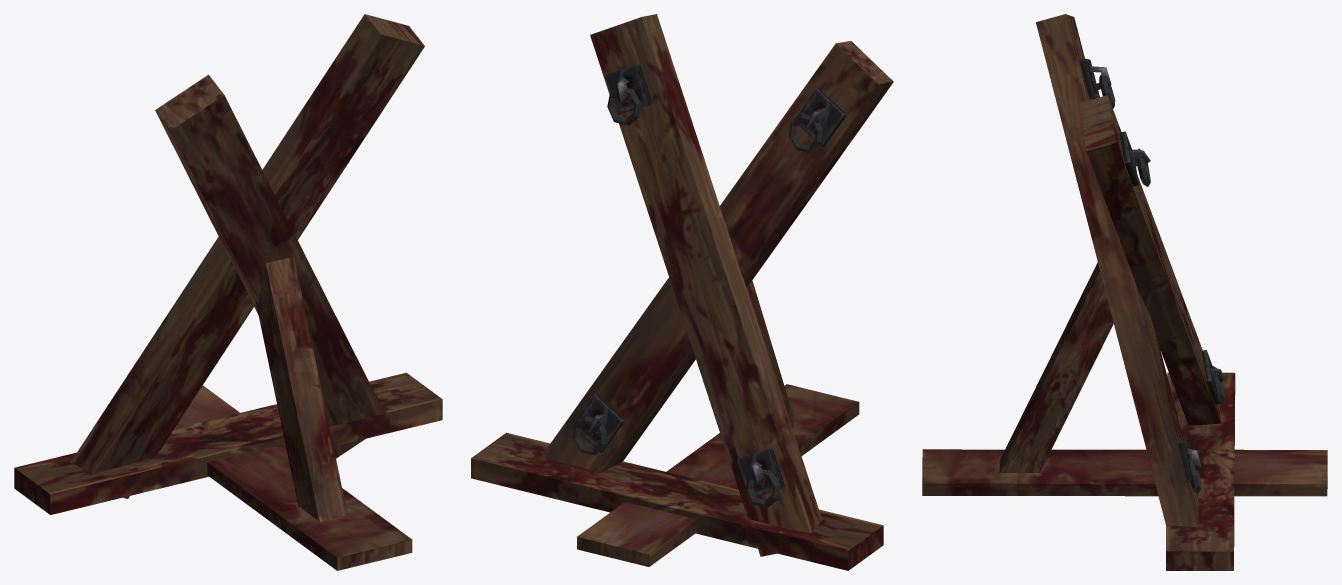
The model's file is Stage001_Object_02.FBX.
3 views of the same model, side by side, from view 1: azimuth 30°, elevation 25°; view 2: azimuth 150°, elevation 25°; view 3: azimuth 270°, elevation 25° (orthographic). The views are drawn at different scales.
Parts seen in each view (by area): view 1: Stage001_Object_02; view 2: Stage001_Object_02; view 3: Stage001_Object_02.
Boxes of the visible parts, left/top/right/bottom form: Stage001_Object_02: left=14, top=14, right=442, bottom=570; Stage001_Object_02: left=471, top=14, right=893, bottom=570; Stage001_Object_02: left=922, top=14, right=1327, bottom=570.
Bounding box in the file's own units: 300 × 347 × 287.
1 material, 1 textured.
